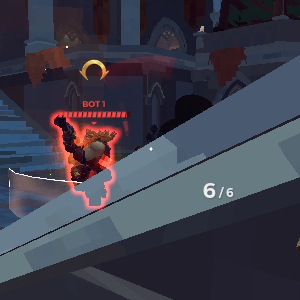model: (54, 117, 118, 216)
